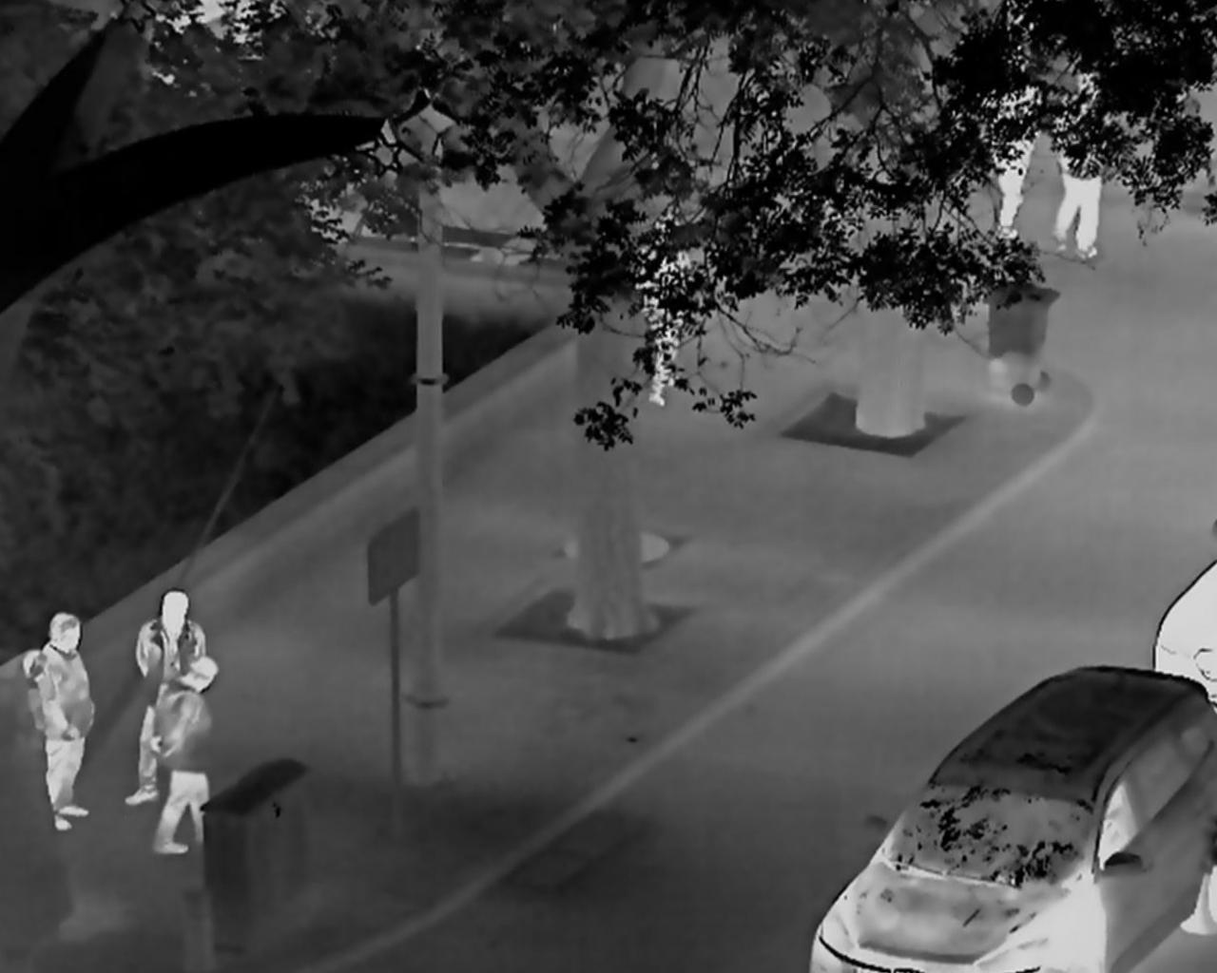person: (123, 589, 207, 806), (33, 609, 96, 832), (153, 657, 220, 855), (631, 219, 693, 410), (1051, 70, 1113, 260), (980, 55, 1044, 239), (21, 648, 46, 746)
